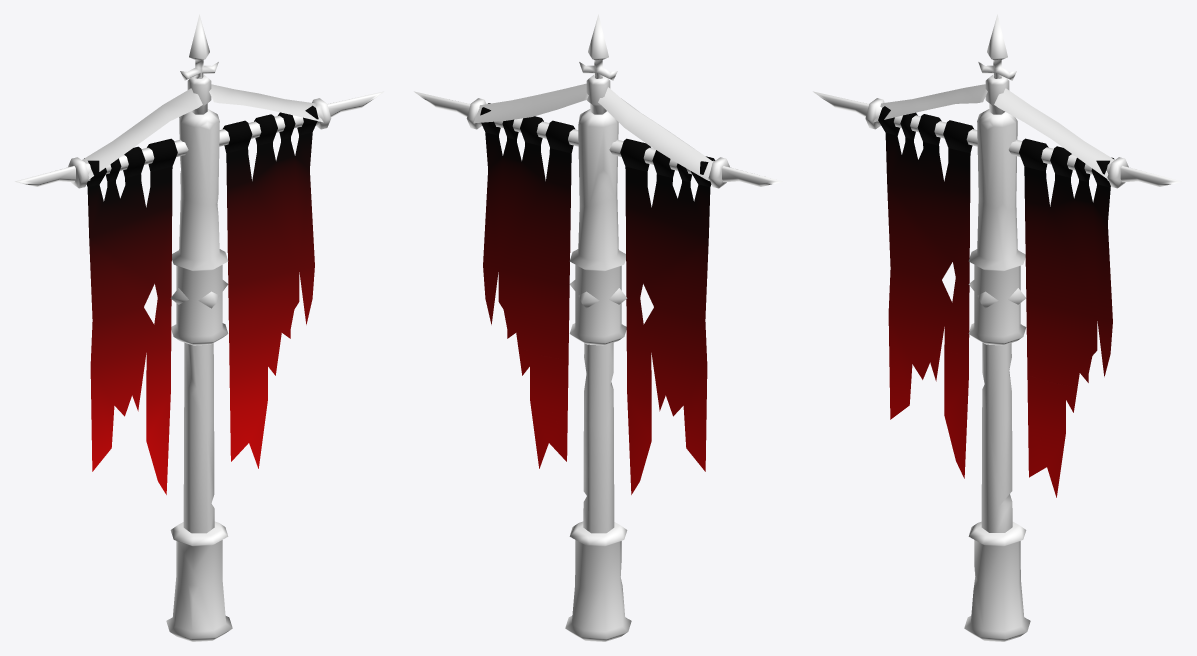
File: SM_Prop_Banner_04.fbx
3 views of the same model, side by side, from view 1: azimuth 30°, elevation 25°; view 2: azimuth 150°, elevation 25°; view 3: azimuth 330°, elevation 25° (orthographic).
Parts seen in each view (by area): view 1: SM_Prop_Banner_04_Flag, SM_Prop_Banner_04; view 2: SM_Prop_Banner_04_Flag, SM_Prop_Banner_04; view 3: SM_Prop_Banner_04_Flag, SM_Prop_Banner_04.
Boxes of the visible parts, left/top/right/bottom form: SM_Prop_Banner_04_Flag: left=84, top=105, right=318, bottom=494; SM_Prop_Banner_04: left=15, top=14, right=383, bottom=641; SM_Prop_Banner_04_Flag: left=480, top=103, right=715, bottom=494; SM_Prop_Banner_04: left=414, top=14, right=782, bottom=641; SM_Prop_Banner_04_Flag: left=878, top=106, right=1114, bottom=497; SM_Prop_Banner_04: left=813, top=14, right=1181, bottom=641.
Bounding box in the file's own units: 193 × 307 × 31.08.
